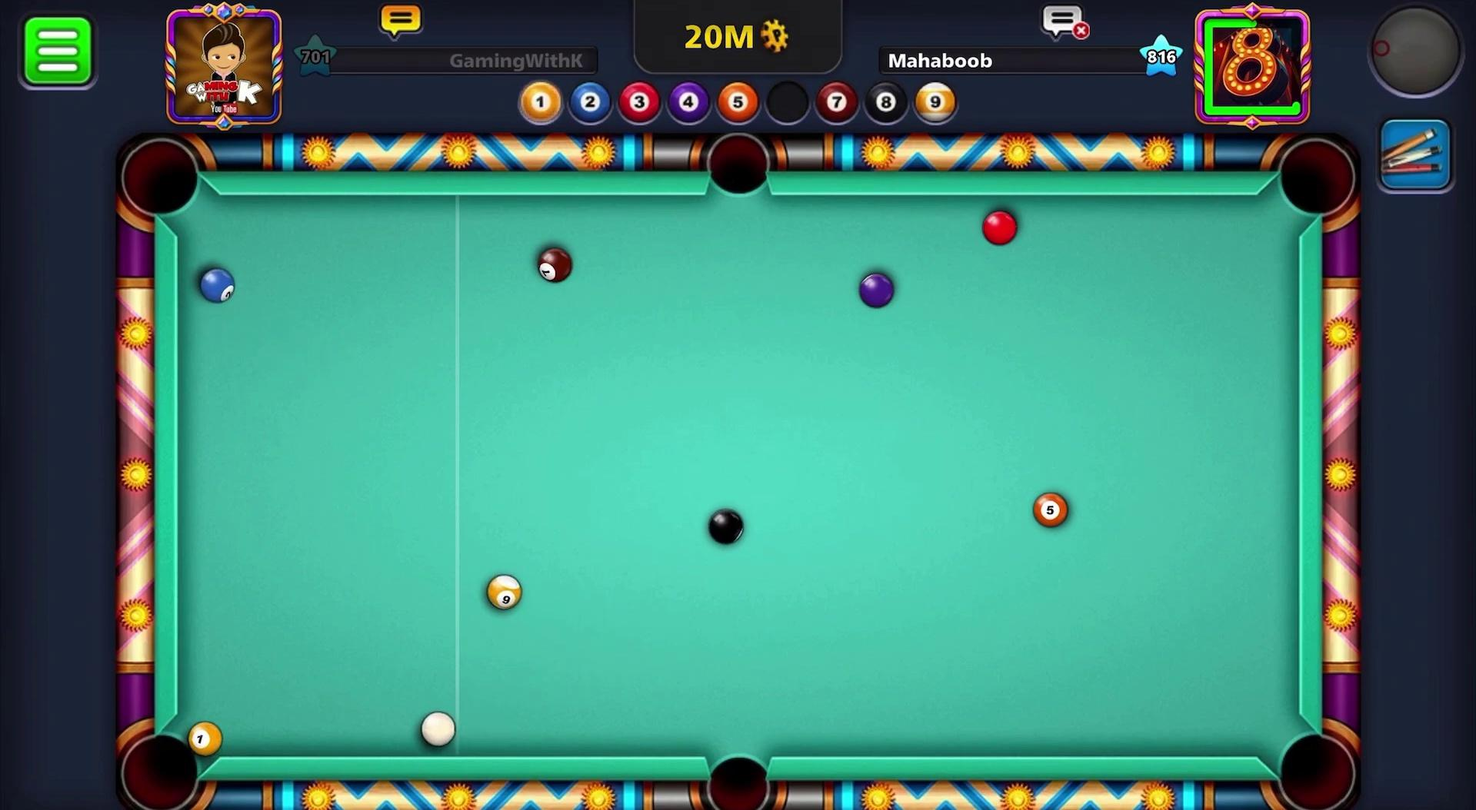Ball: (181, 710, 234, 765), (698, 504, 751, 550), (481, 569, 529, 616), (855, 267, 898, 313), (1030, 486, 1071, 532), (195, 264, 238, 306), (978, 207, 1022, 248), (415, 709, 459, 750), (529, 245, 575, 284)
Hole: (1268, 134, 1364, 232), (112, 130, 208, 228), (1266, 719, 1364, 809), (112, 722, 205, 809), (697, 123, 785, 204), (698, 742, 779, 809)
Play_Area: (176, 194, 1298, 757)
Spin: (1349, 0, 1475, 115)
